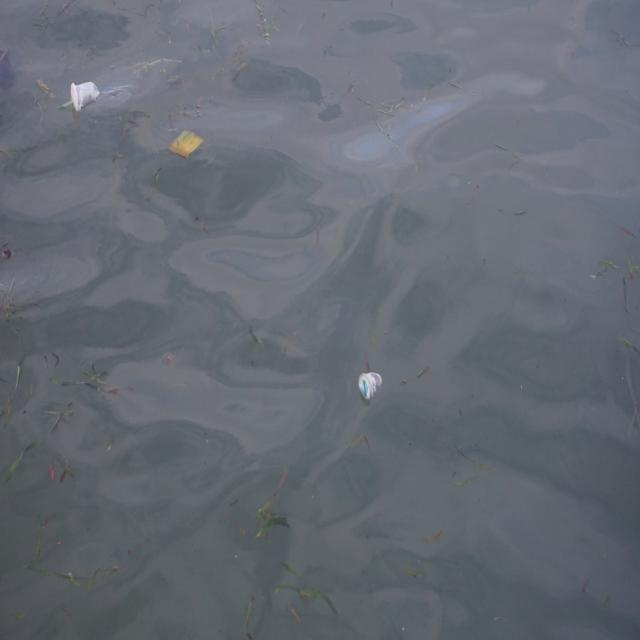Bungkus Minuman: (67, 77, 102, 117), (357, 360, 385, 403)
